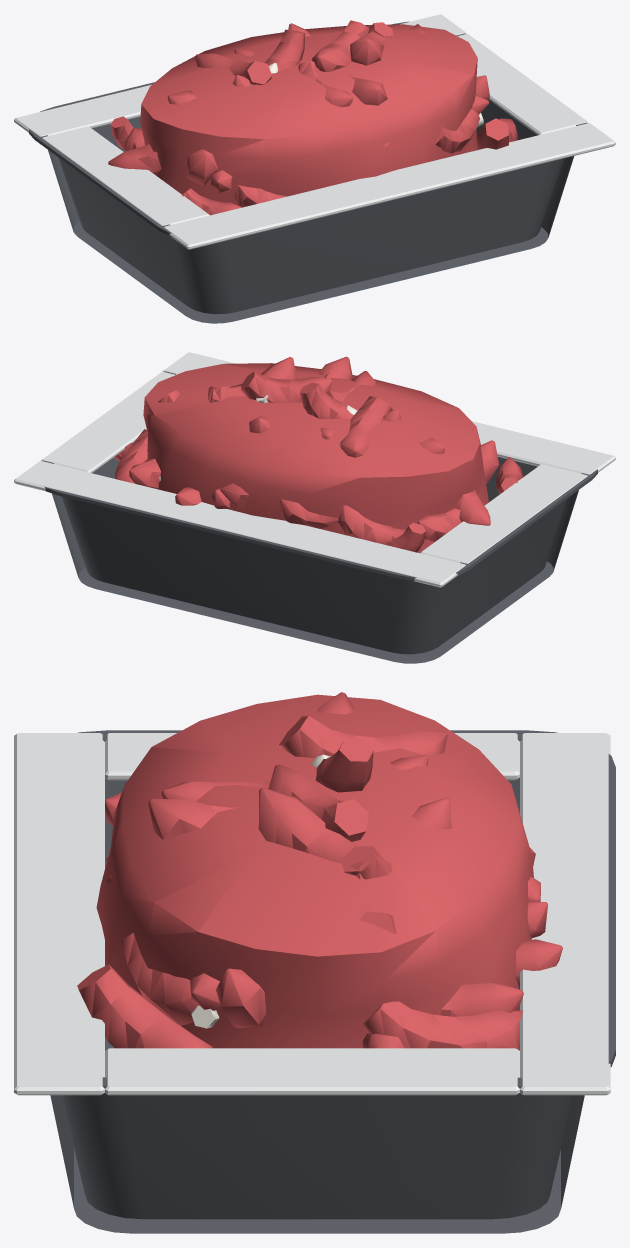
File: fresh-produce-and-groceries-mince-tray-08b156b0__24401.glb
The picture shows the model from 3 angles, top to bottom: view 1: azimuth 30°, elevation 25°; view 2: azimuth 150°, elevation 25°; view 3: azimuth 270°, elevation 25°; orthographic projection. The views are drawn at different scales.
Parts seen in each view (by area): view 1: mince-tray; view 2: mince-tray; view 3: mince-tray.
Part boxes in pixels (x1,y1,x2,y2): mince-tray: (14,14,615,323); mince-tray: (14,352,615,663); mince-tray: (14,692,615,1233).
Bounding box in the file's own units: 0.1962 × 0.0861 × 0.1392.
